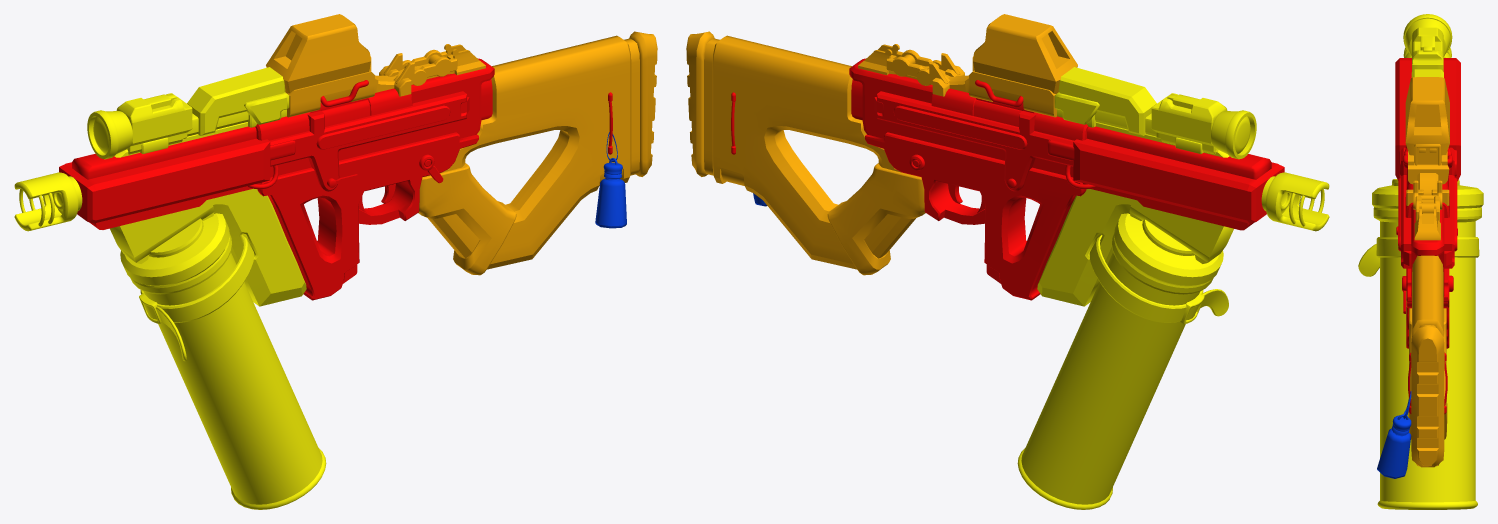
Rendered from SaltySnack.fbx.
3 views of the same model, side by side, from view 1: azimuth 30°, elevation 25°; view 2: azimuth 150°, elevation 25°; view 3: azimuth 270°, elevation 25° (orthographic).
Parts seen in each view (by area): view 1: ID03_01_low, ID01_06_low, ID02_04_low, ID02_01_low, ID01_04_low, ID03_02_low, ID03_14_low, ID02_02_low, ID01_05_low, ID02_03_low, ID01_16_low, ID01_01_low (+14 smaller); view 2: ID03_01_low, ID01_06_low, ID02_04_low, ID02_01_low, ID01_04_low, ID03_02_low, ID03_14_low, ID01_05_low, ID02_02_low, ID02_03_low, ID01_16_low, ID01_01_low (+13 smaller); view 3: ID01_06_low, ID03_04_low, ID02_01_low, ID03_14_low, ID03_01_low, ID02_02_low, ID_pendant02_low, ID01_05_low, ID01_11_low, ID02_03_low, ID01_07_low, ID01_10_low (+21 smaller).
Boxes of the visible parts, x1=… form: ID03_01_low: x1=428, y1=35, x2=631, y2=269; ID01_06_low: x1=130, y1=234, x2=326, y2=509; ID02_04_low: x1=257, y1=132, x2=478, y2=300; ID02_01_low: x1=59, y1=126, x2=270, y2=229; ID01_04_low: x1=210, y1=188, x2=306, y2=306; ID03_02_low: x1=418, y1=163, x2=516, y2=275; ID03_14_low: x1=266, y1=14, x2=370, y2=93; ID02_02_low: x1=270, y1=91, x2=466, y2=191; ID01_05_low: x1=120, y1=213, x2=229, y2=286; ID02_03_low: x1=270, y1=58, x2=494, y2=177; ID01_16_low: x1=187, y1=67, x2=285, y2=135; ID01_01_low: x1=14, y1=172, x2=78, y2=231; ID03_01_low: x1=712, y1=35, x2=915, y2=269; ID01_06_low: x1=1017, y1=234, x2=1213, y2=509; ID02_04_low: x1=865, y1=132, x2=1086, y2=300; ID02_01_low: x1=1073, y1=126, x2=1284, y2=230; ID01_04_low: x1=1037, y1=189, x2=1133, y2=306; ID03_02_low: x1=827, y1=163, x2=925, y2=275; ID03_14_low: x1=973, y1=14, x2=1077, y2=93; ID01_05_low: x1=1114, y1=213, x2=1223, y2=286; ID02_02_low: x1=877, y1=91, x2=1073, y2=191; ID02_03_low: x1=849, y1=58, x2=1073, y2=177; ID01_16_low: x1=1058, y1=67, x2=1156, y2=135; ID01_01_low: x1=1265, y1=172, x2=1329, y2=231; ID01_06_low: x1=1373, y1=207, x2=1481, y2=509; ID03_04_low: x1=1411, y1=326, x2=1444, y2=467; ID02_01_low: x1=1395, y1=58, x2=1460, y2=181; ID03_14_low: x1=1405, y1=77, x2=1449, y2=163; ID03_01_low: x1=1412, y1=255, x2=1443, y2=466; ID02_02_low: x1=1401, y1=147, x2=1454, y2=268; ID_pendant02_low: x1=1377, y1=428, x2=1411, y2=478; ID01_05_low: x1=1372, y1=179, x2=1483, y2=208; ID01_11_low: x1=1412, y1=27, x2=1443, y2=71; ID02_03_low: x1=1411, y1=204, x2=1444, y2=296; ID01_07_low: x1=1376, y1=237, x2=1479, y2=257; ID01_10_low: x1=1403, y1=14, x2=1452, y2=56.
Size of the model in its own units: 447 by 311 by 77.21.
